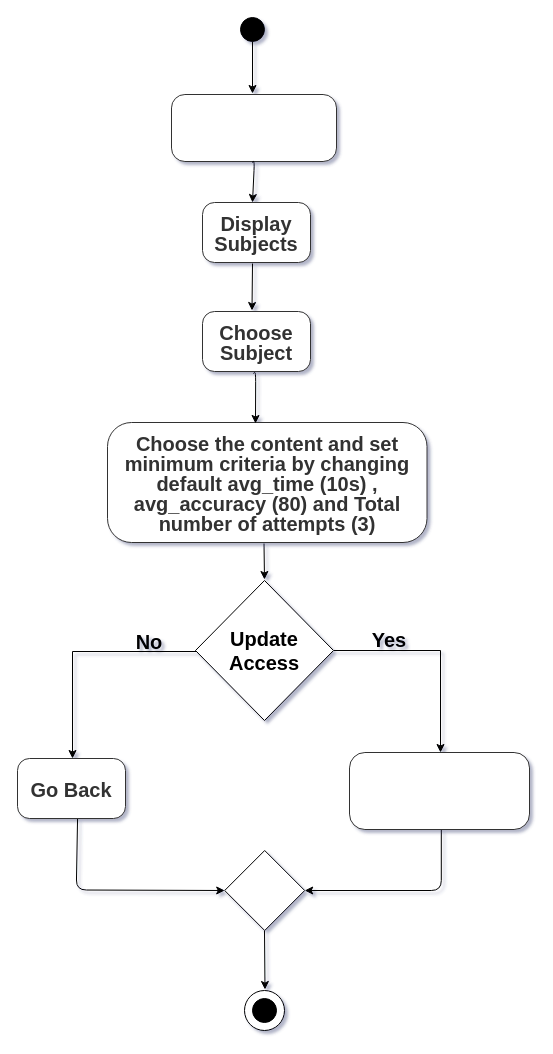
Image size: 553x1054. Some labels were removed from this diagram. Here are the shapes that lost their labels. From the top down, the centre of each, then its label:
the point at 253,128: Open Manage Content Screen
the point at 439,791: Kid can view only selected content
